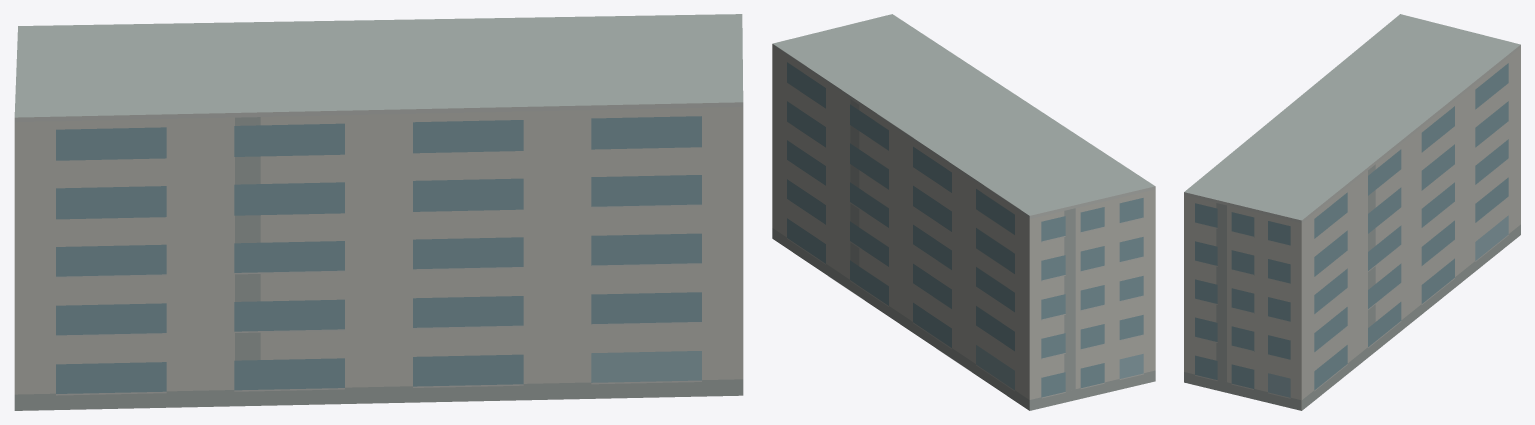
File: survey-upis-32943847.glb
The picture shows the model from 3 angles, left to right: view 1: azimuth 30°, elevation 25°; view 2: azimuth 150°, elevation 25°; view 3: azimuth 270°, elevation 25°; orthographic projection. The views are drawn at different scales.
Parts seen in each view (by area): view 1: survey-upis-32943847.tmp; view 2: survey-upis-32943847.tmp; view 3: survey-upis-32943847.tmp.
Boxes of the visible parts, left/top/right/bottom form: survey-upis-32943847.tmp: left=14, top=14, right=743, bottom=410; survey-upis-32943847.tmp: left=772, top=14, right=1155, bottom=410; survey-upis-32943847.tmp: left=1184, top=14, right=1520, bottom=410.
Bounding box in the file's own units: 35.47 × 15.25 × 24.45.
